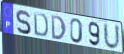0: (70, 18, 84, 45)
9: (88, 22, 101, 48)
D: (50, 14, 67, 41), (33, 11, 49, 39)
S: (15, 9, 32, 36)
U: (102, 22, 122, 52)
